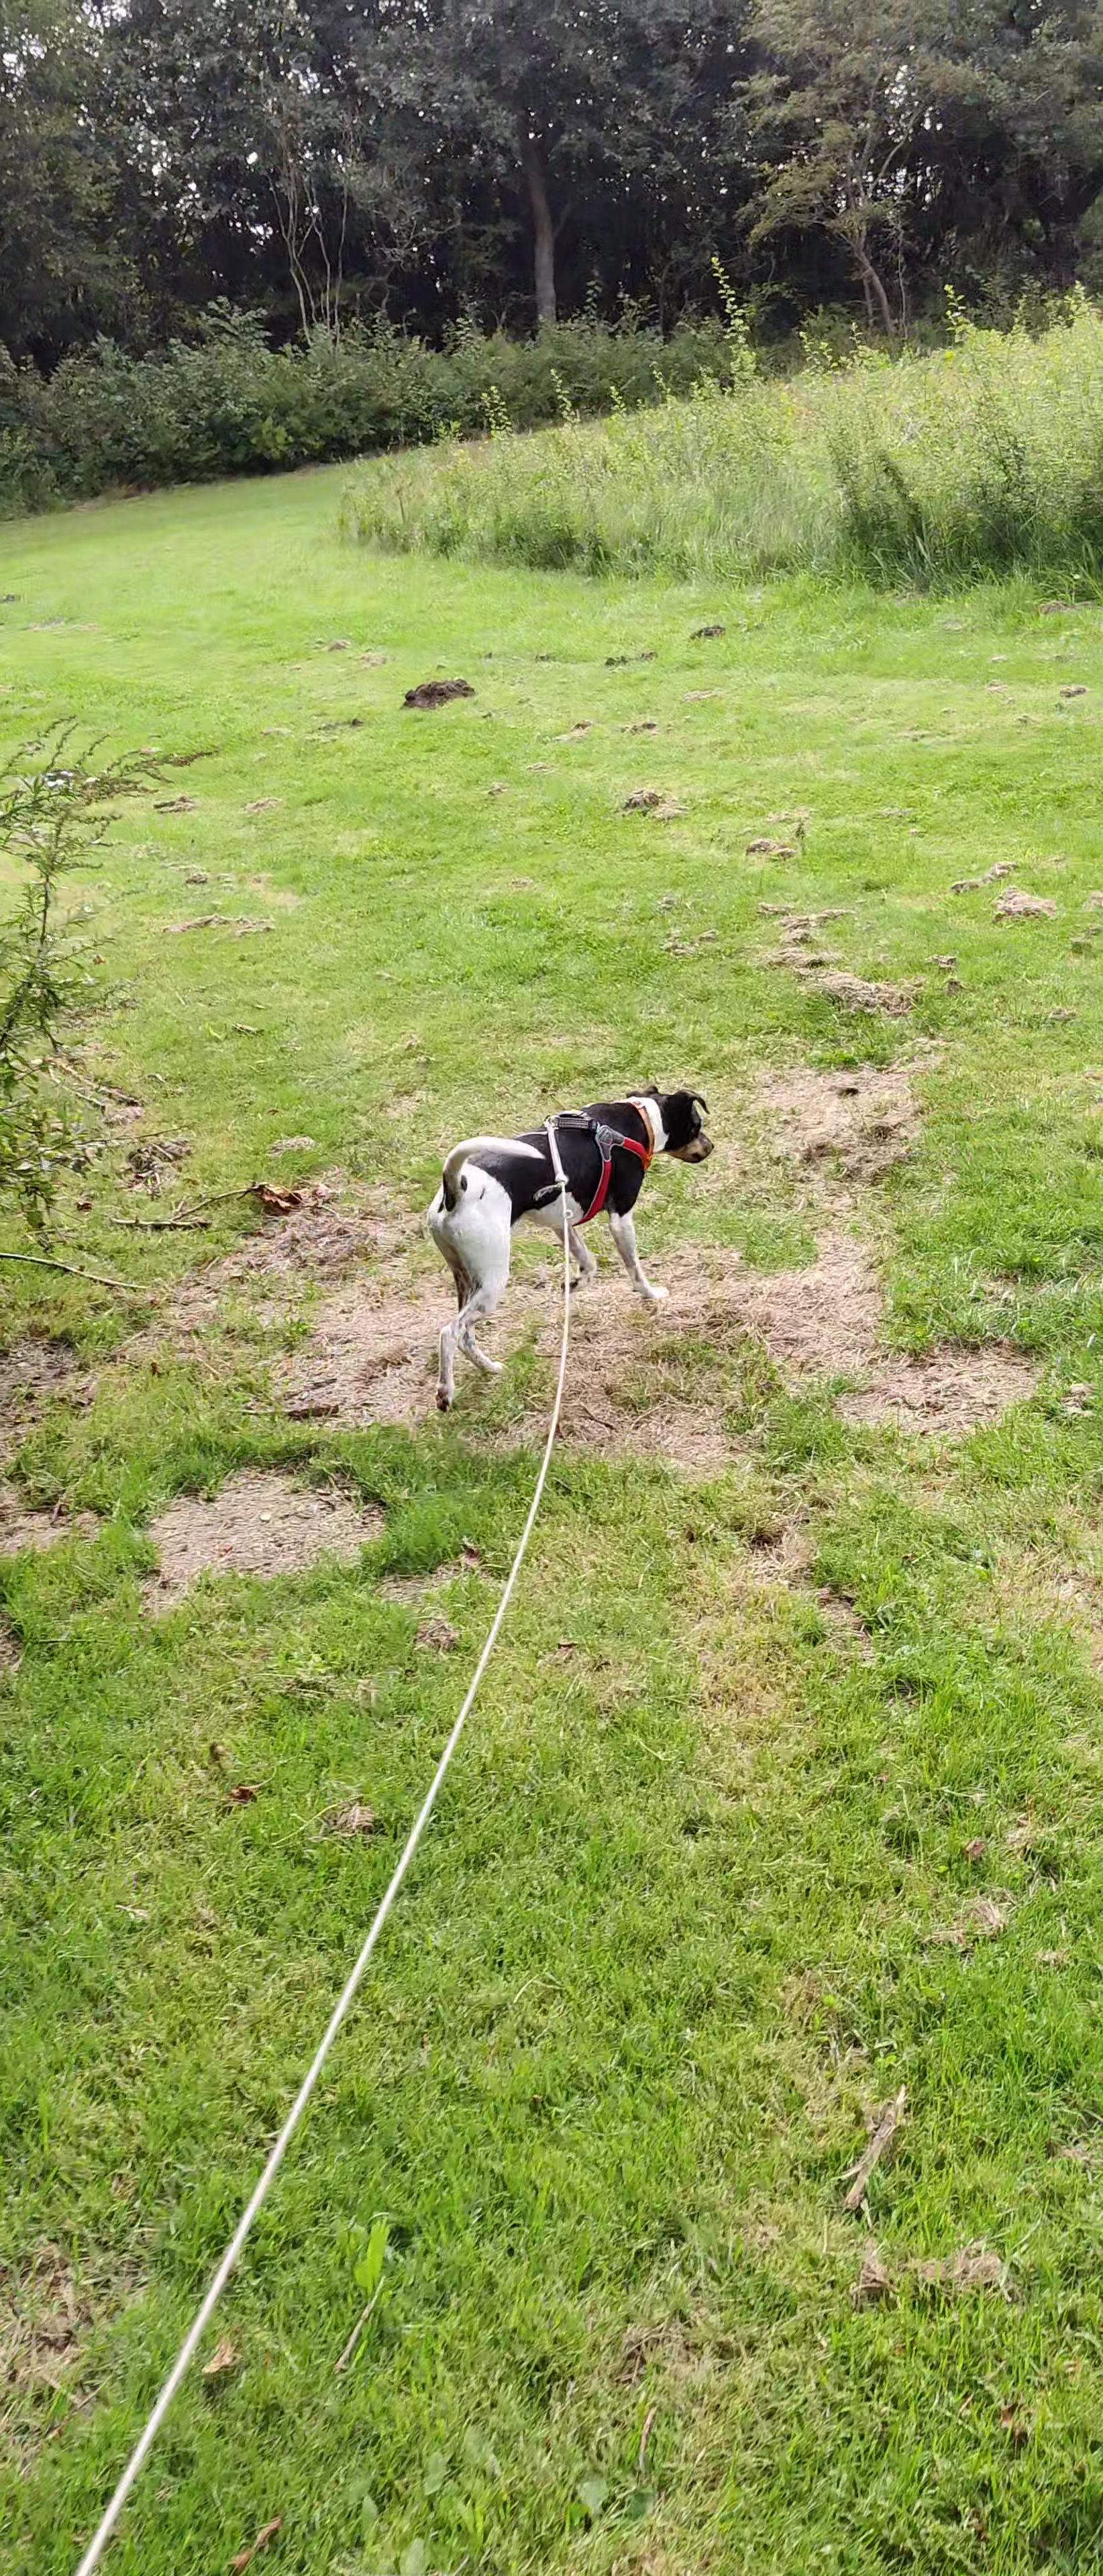Dog: (418, 1081, 720, 1416)
